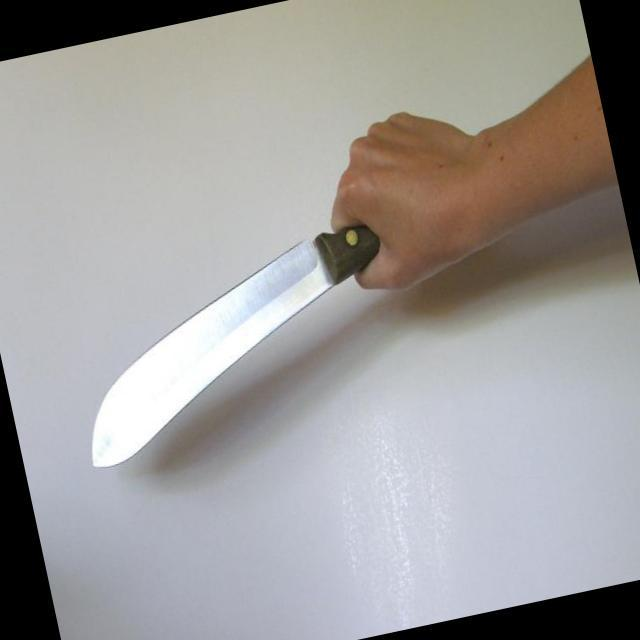Knife: (10, 116, 447, 490)
